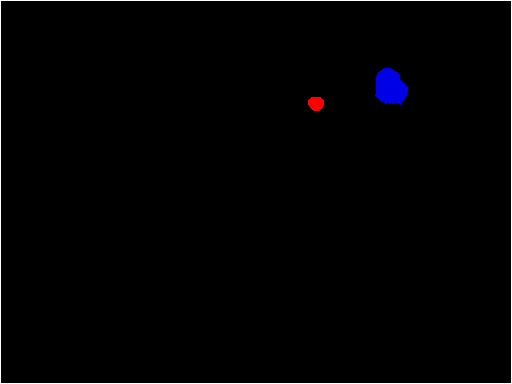chipped: (378, 72, 406, 97)
detached: (307, 94, 322, 110)
